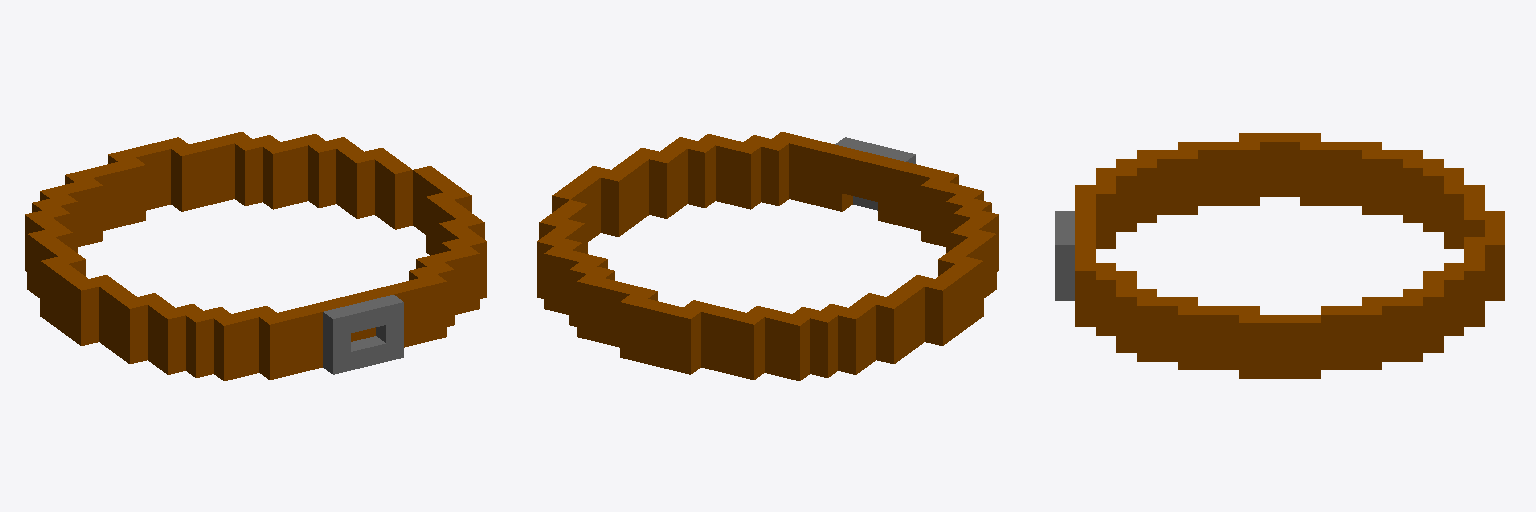
3 views of the same model, side by side, from view 1: azimuth 30°, elevation 25°; view 2: azimuth 150°, elevation 25°; view 3: azimuth 270°, elevation 25° (orthographic).
Parts seen in each view (by area): view 1: object 1; view 2: object 1; view 3: object 1.
Boxes of the visible parts, box(x1,y1,x2,y2) form: object 1: box(25, 132, 486, 380); object 1: box(537, 132, 998, 380); object 1: box(1055, 133, 1504, 378).
Size of the model in its own units: 2.2 by 0.3 by 2.2.
1 materials, 1 textured.